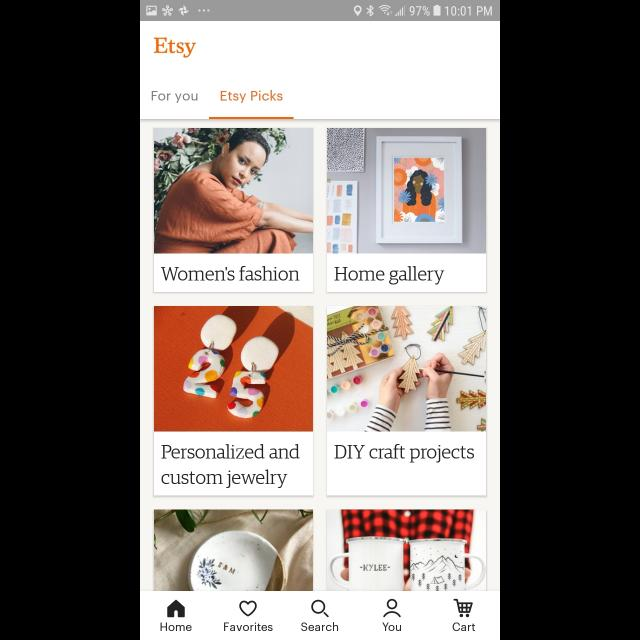icon: (453, 598, 472, 618), (383, 598, 401, 618), (311, 599, 329, 617), (167, 600, 185, 618), (239, 600, 257, 616)
image: (326, 306, 486, 432), (154, 306, 314, 432), (154, 128, 314, 254), (328, 128, 487, 254), (326, 510, 486, 590), (154, 510, 314, 590)
text: (162, 444, 300, 488), (334, 443, 474, 462), (162, 266, 300, 282), (335, 266, 445, 284), (221, 90, 283, 104), (154, 38, 196, 58), (152, 91, 198, 103), (224, 622, 272, 632), (302, 622, 338, 632), (160, 622, 192, 632), (452, 622, 476, 632), (382, 622, 402, 632)
uppertaskbar: (140, 1, 500, 22)
